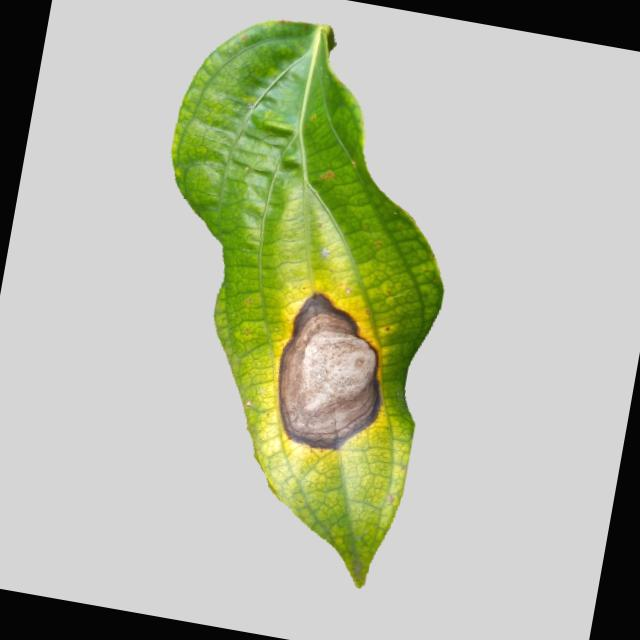leaf-blight: (55, 1, 502, 606)
